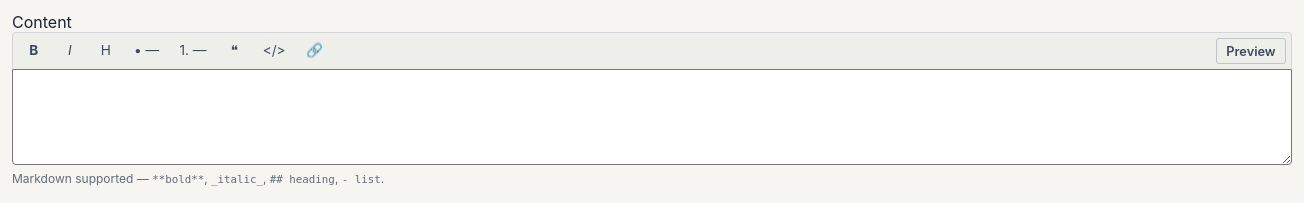
Test: MarkdownEditor › tells the author when there is nothing to preview
This screenshot has width=1304, height=203.
Click the button "Preview": (1251, 51) [1216, 38, 1286, 64]
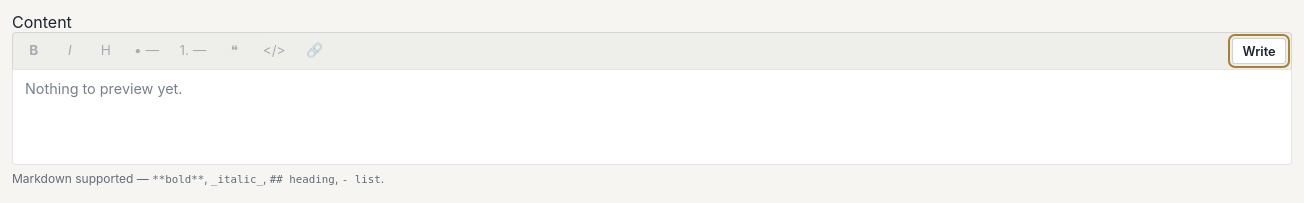
expect the text "Nothing to preview yet." is shown: met, box [25, 80, 182, 97]
